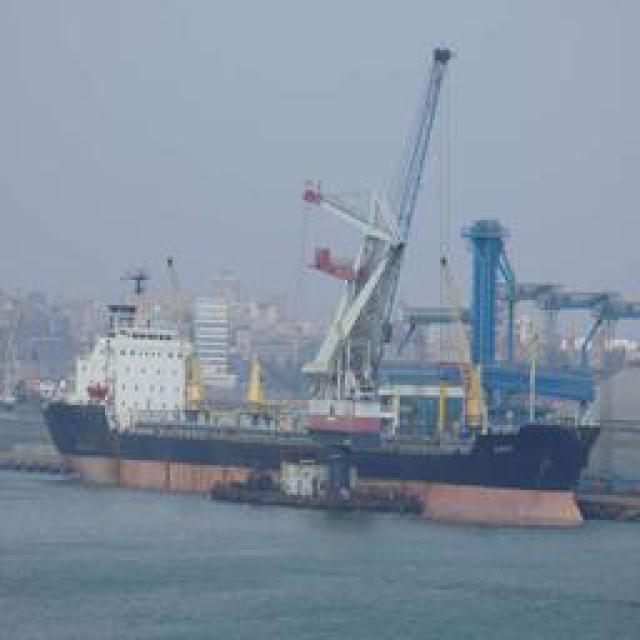Ship: (46, 32, 604, 495)
